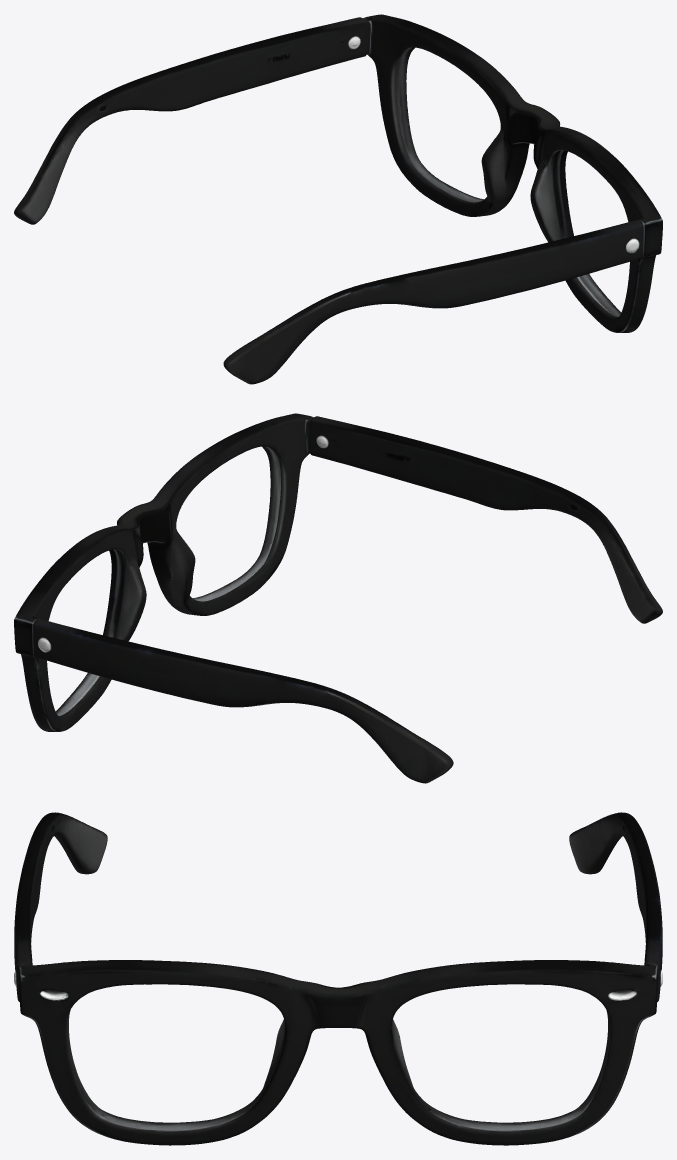
The picture shows the model from 3 angles, top to bottom: view 1: azimuth 30°, elevation 25°; view 2: azimuth 150°, elevation 25°; view 3: azimuth 270°, elevation 25°; orthographic projection. The views are drawn at different scales.
Parts seen in each view (by area): view 1: tripo_node_21cb9f9d-8063-4b63-b269-5e61f34222d4; view 2: tripo_node_21cb9f9d-8063-4b63-b269-5e61f34222d4; view 3: tripo_node_21cb9f9d-8063-4b63-b269-5e61f34222d4.
Boxes of the visible parts, x1=… form: tripo_node_21cb9f9d-8063-4b63-b269-5e61f34222d4: x1=14, y1=14, x2=662, y2=384; tripo_node_21cb9f9d-8063-4b63-b269-5e61f34222d4: x1=14, y1=413, x2=662, y2=783; tripo_node_21cb9f9d-8063-4b63-b269-5e61f34222d4: x1=14, y1=812, x2=662, y2=1145.
Bounding box in the file's own units: 0.8718 × 0.3071 × 1.
Materials: 1 (1 with a texture image).
